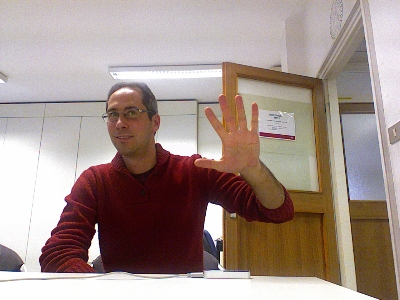布: (192, 92, 261, 176)
